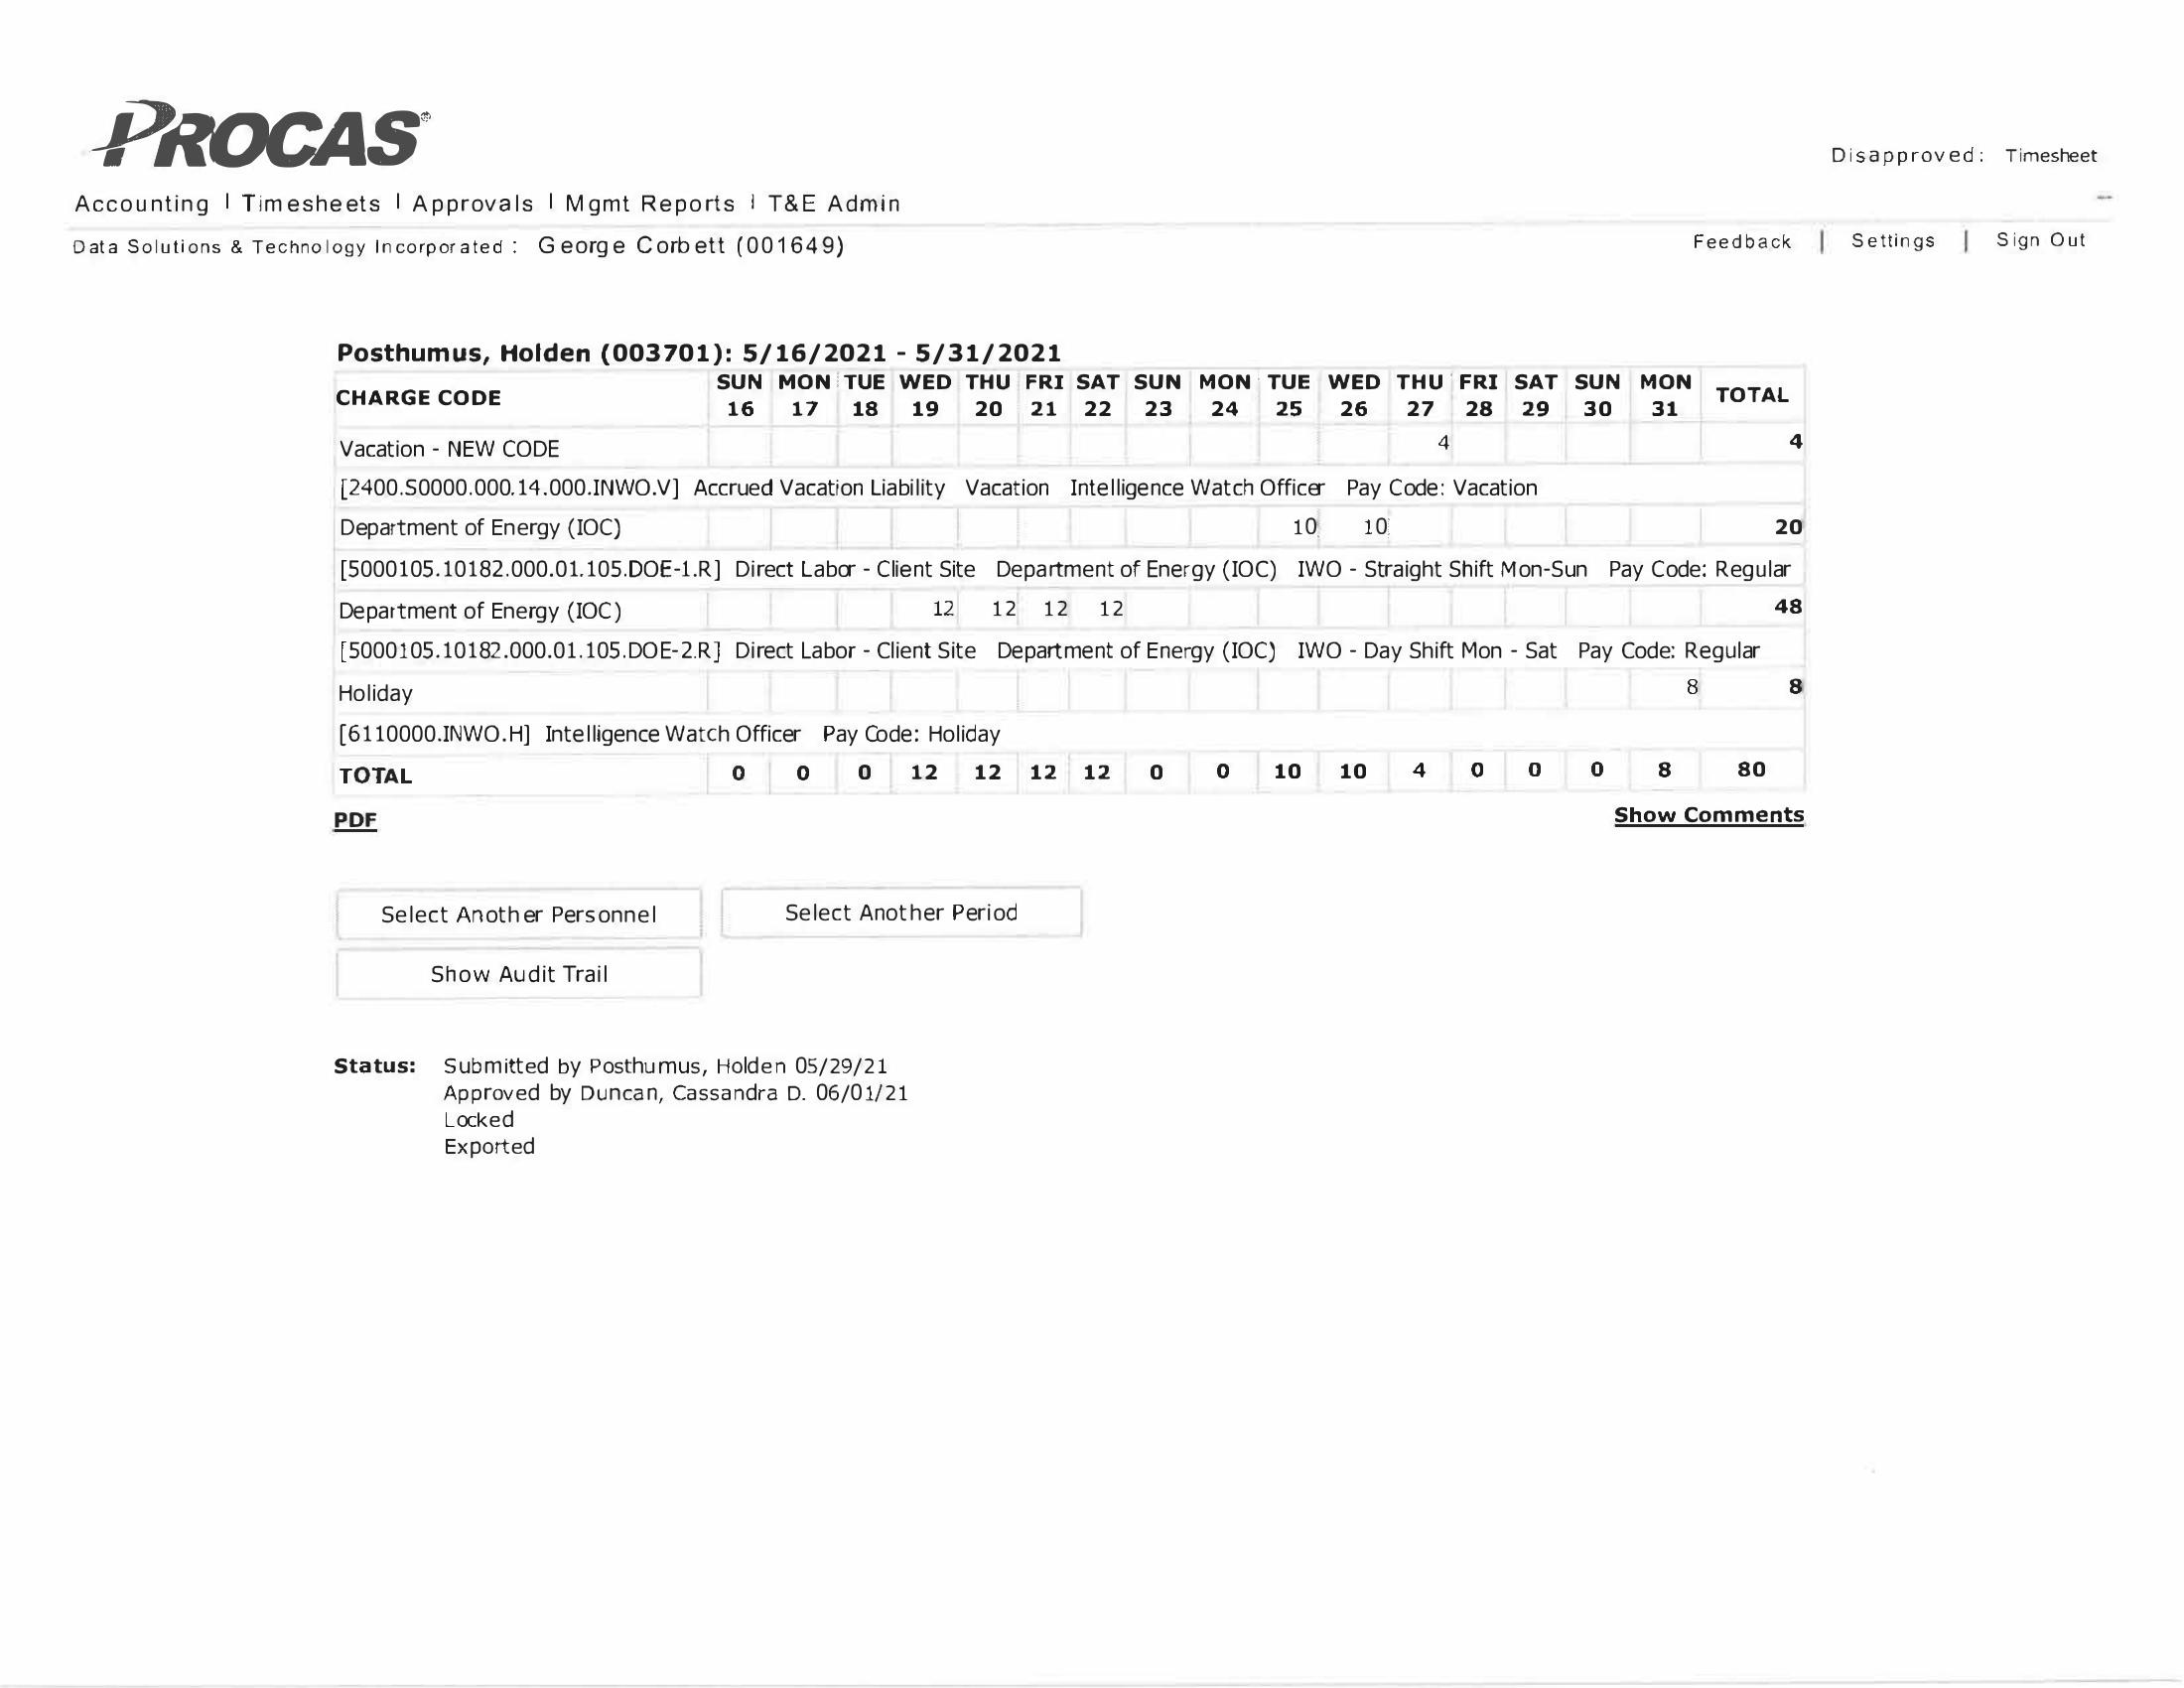table: (319, 363, 1831, 787)
